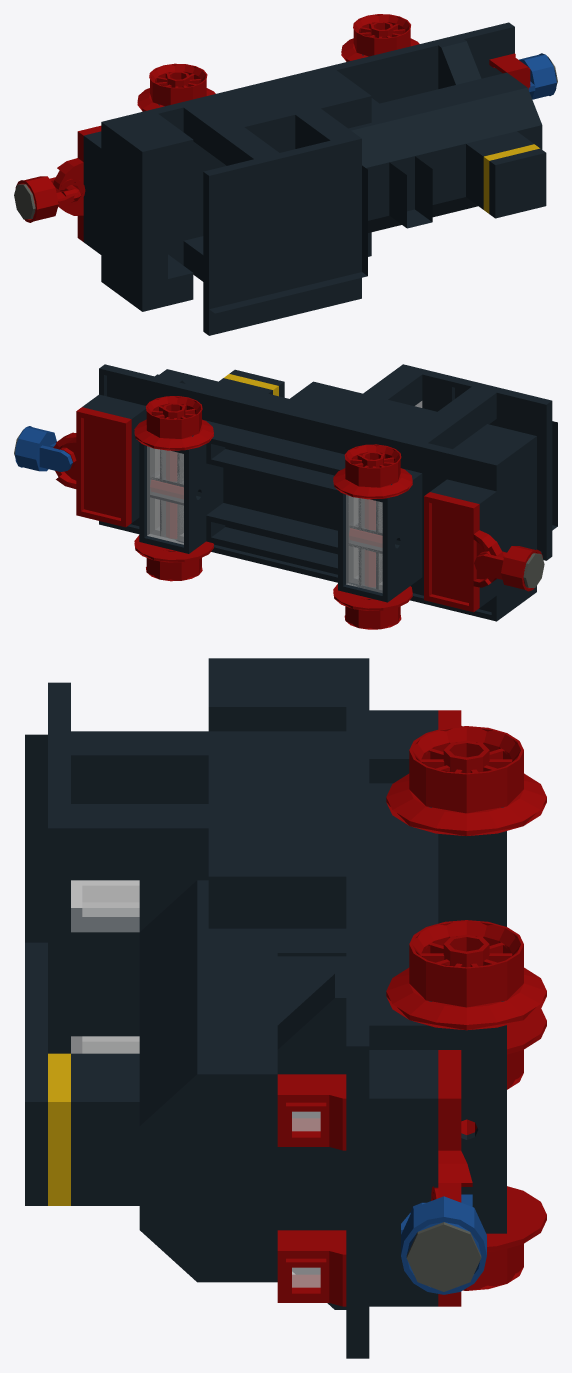
File: steam-locomotive-push.glb
3 views of the same model, one above another, from view 1: azimuth 30°, elevation 25°; view 2: azimuth 150°, elevation 25°; view 3: azimuth 270°, elevation 25° (orthographic). The views are drawn at different scales.
Size of the model in its own units: 165 by 49.6 by 72.76.
